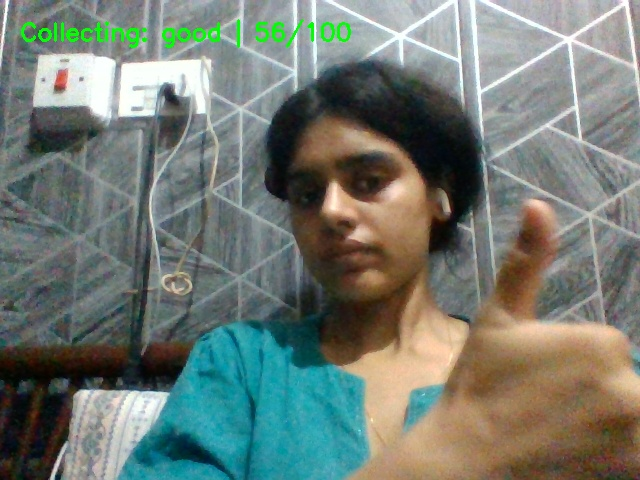good: (424, 185, 640, 480)
